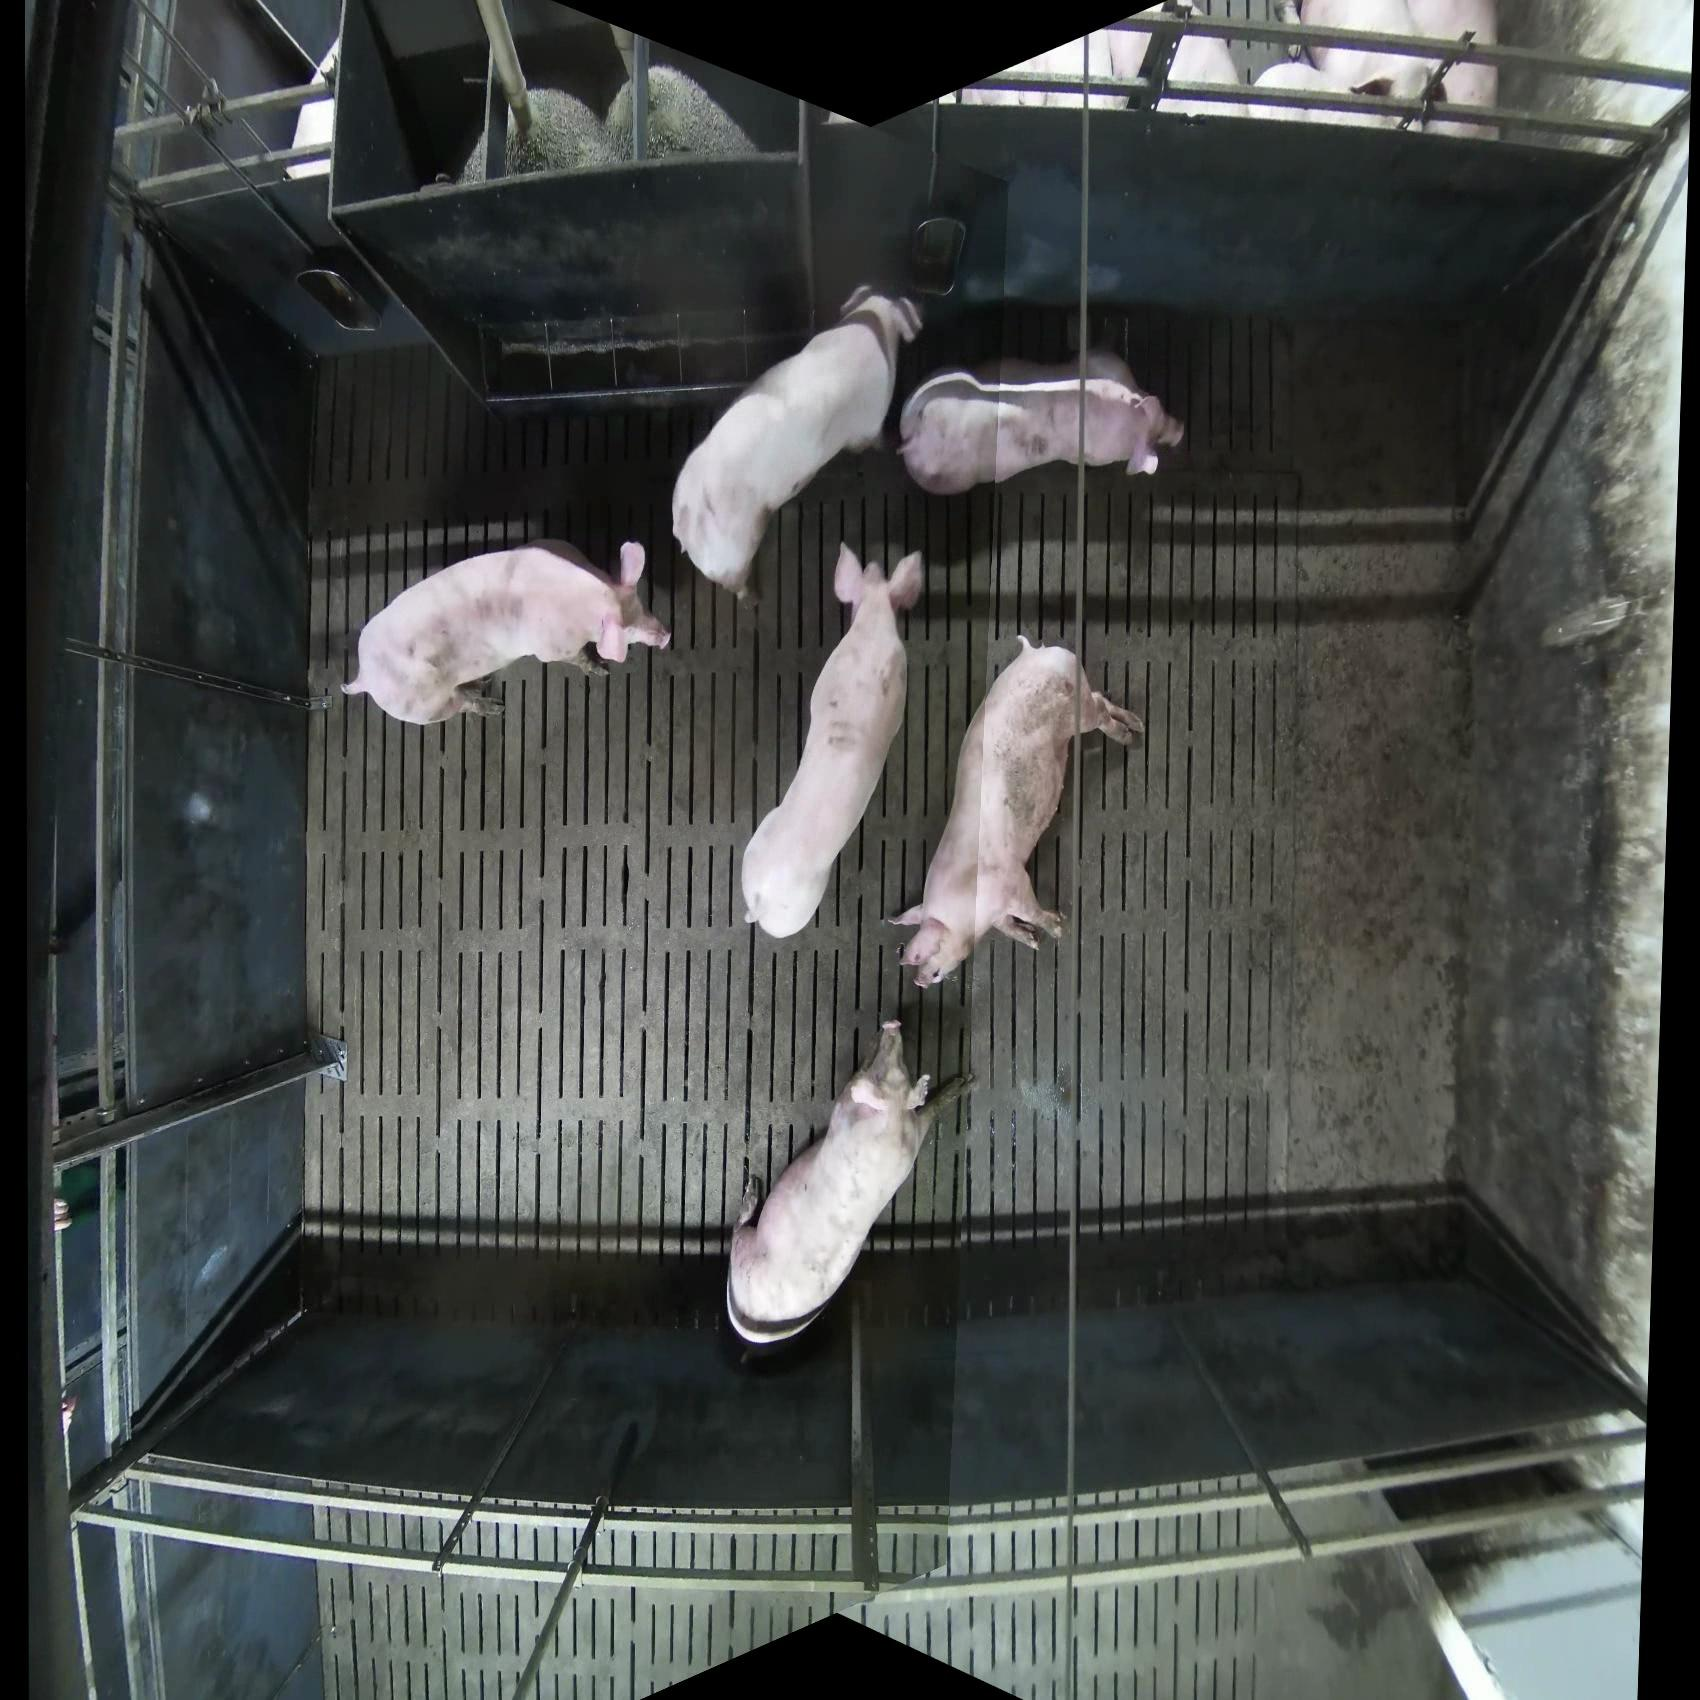pig: (884, 632, 1144, 992), (724, 1020, 979, 1347), (669, 282, 925, 601), (739, 540, 925, 940), (339, 536, 673, 729), (897, 349, 1185, 497), (1252, 2, 1501, 139), (953, 16, 1249, 118), (1098, 23, 1247, 117)
